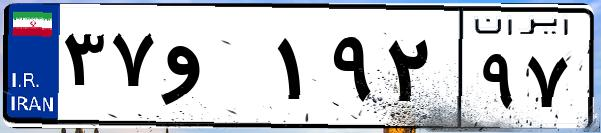1: (270, 28, 330, 110)
2: (385, 28, 445, 110)
3: (57, 26, 110, 100)
7: (525, 38, 570, 115), (110, 28, 158, 98)
9: (330, 28, 385, 110), (475, 38, 525, 113)
و: (158, 20, 270, 120)
